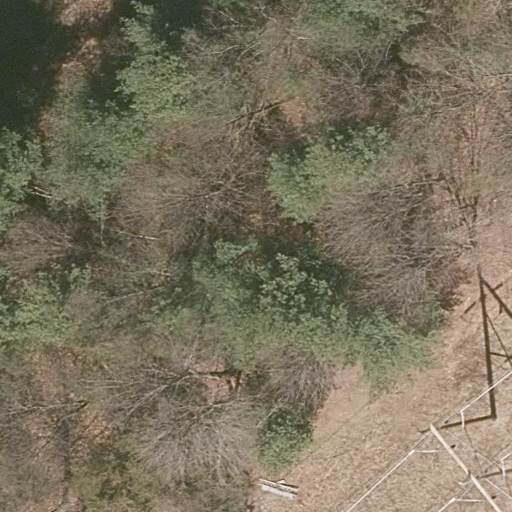TT: (407, 417, 511, 512)
